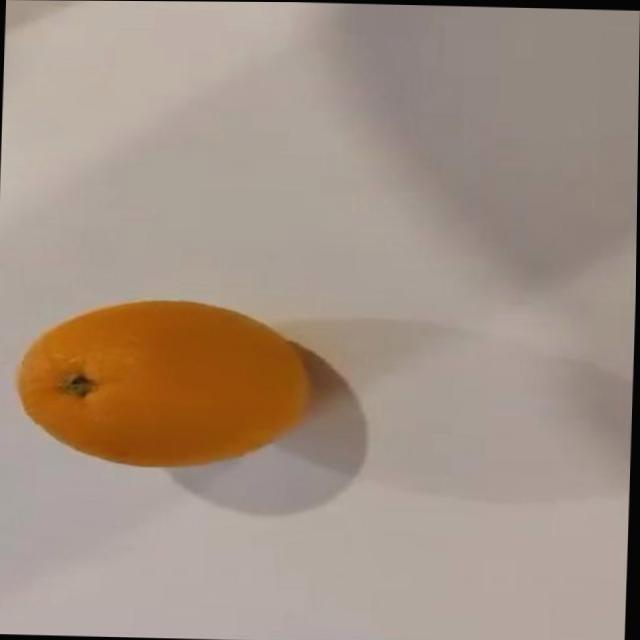Orange: (15, 296, 316, 473)
